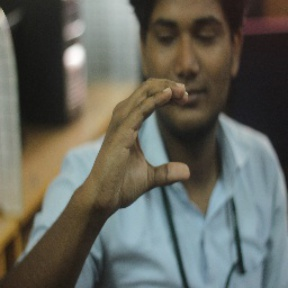C: (104, 75, 199, 191)
